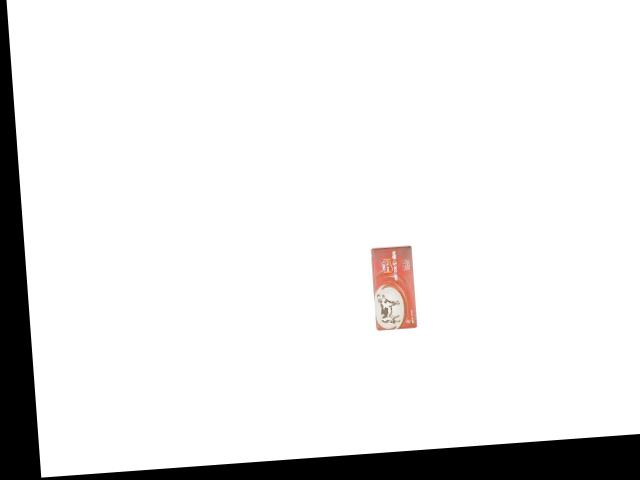chocolate: (370, 243, 419, 330)
